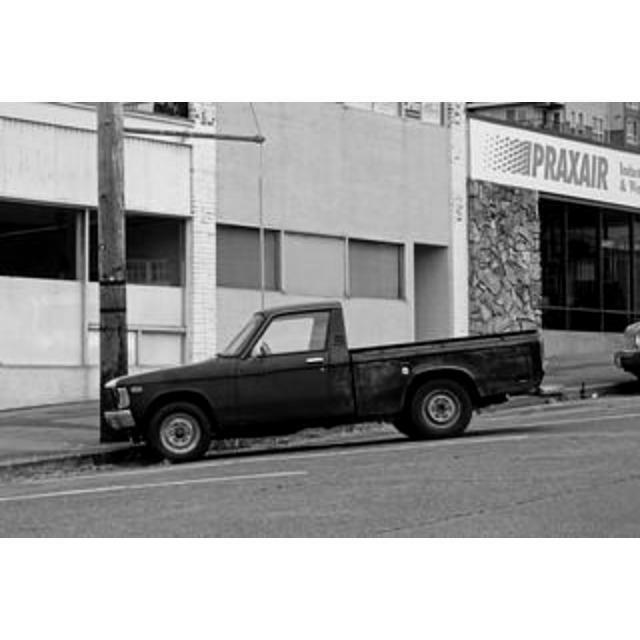quaterpanel-dent: (348, 348, 476, 388)
